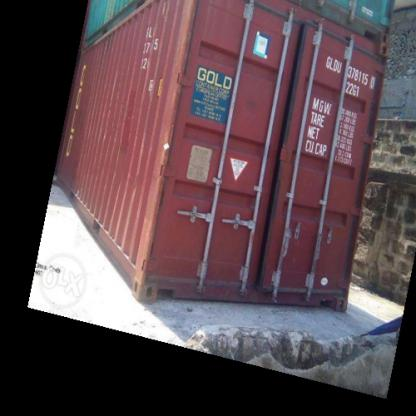Damage: (166, 2, 200, 138), (140, 142, 167, 246), (176, 277, 288, 301)
